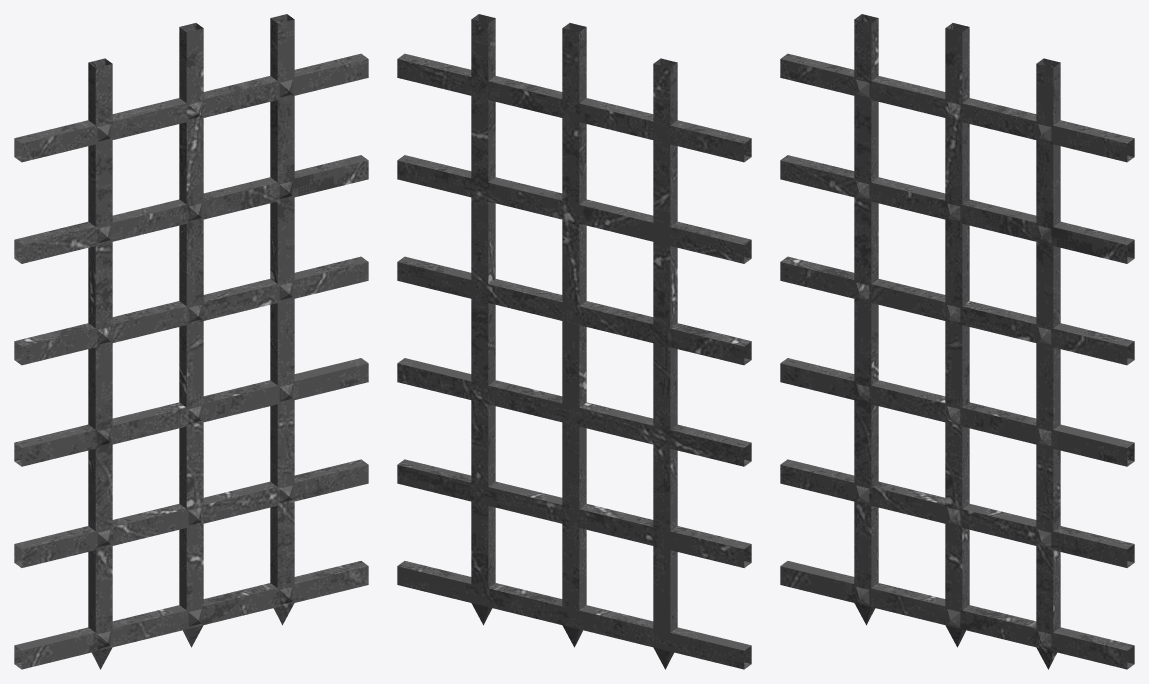
The model's file is portcullis_1.glb.
3 views of the same model, side by side, from view 1: azimuth 30°, elevation 25°; view 2: azimuth 150°, elevation 25°; view 3: azimuth 330°, elevation 25° (orthographic).
Parts seen in each view (by area): view 1: IronGate; view 2: IronGate; view 3: IronGate.
Boxes of the visible parts, bbox=[...] form: IronGate: bbox=[14, 14, 368, 669]; IronGate: bbox=[397, 14, 751, 669]; IronGate: bbox=[780, 14, 1134, 669].
Bounding box in the file's own units: 1.28 × 2.18 × 0.0692.
1 material, 1 textured.
